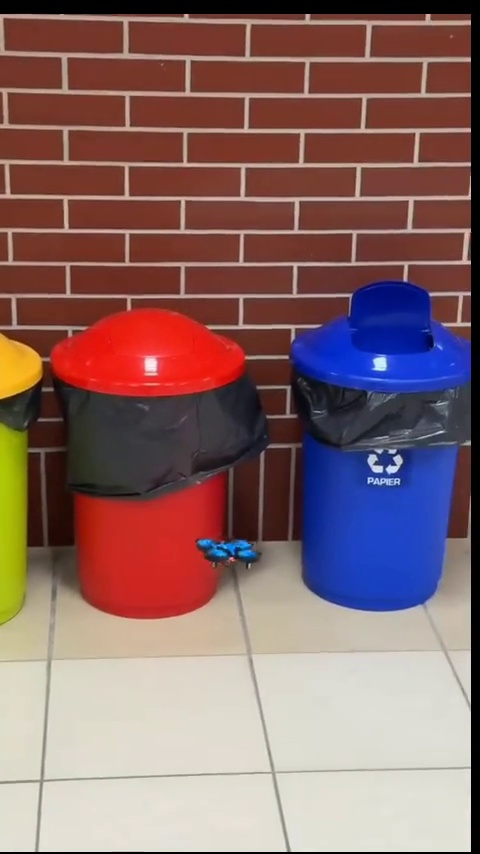drone: (193, 534, 262, 571)
